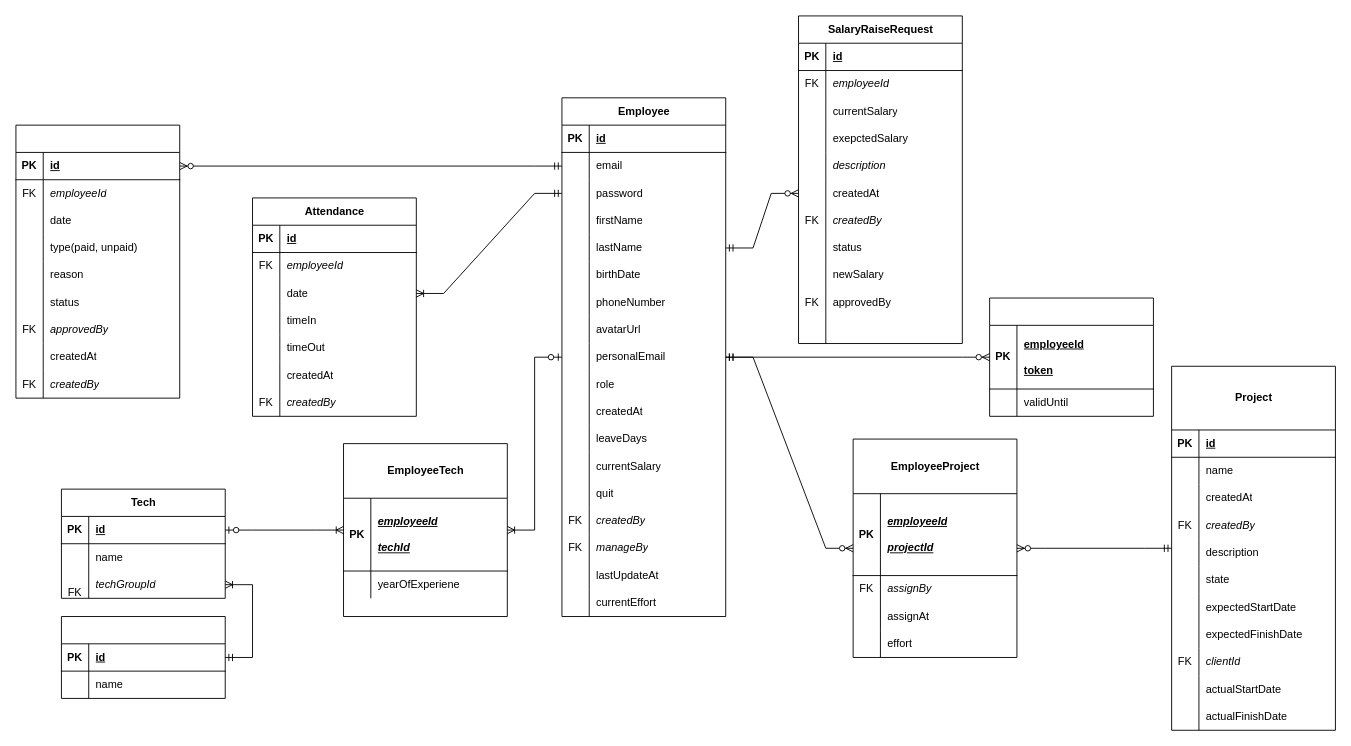
Some shapes in this 1351 by 746 pixel diagram are drawn without their labels. The shapes that lost their labels are listed below. From the top down, each one's box as (x1, y1, x2, y2) in pixels, then its label:
(15, 124, 180, 398): LeaveRequest
(989, 297, 1153, 416): PasswordResetRequest
(61, 616, 225, 698): TechGroup
